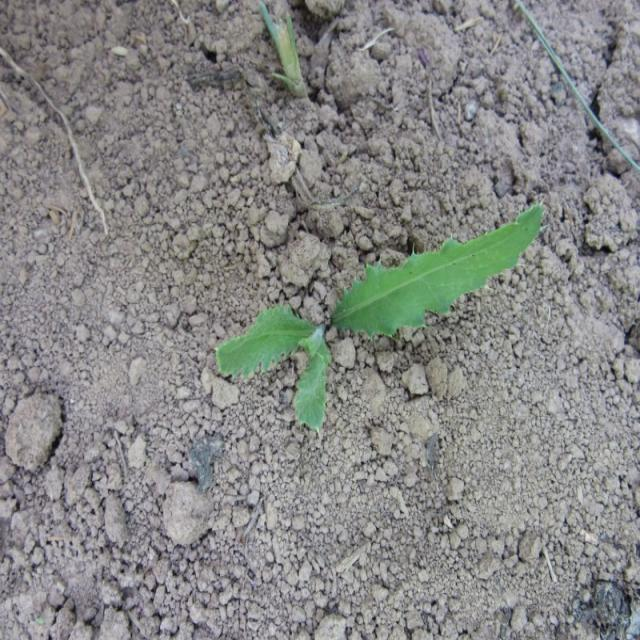field_thistle: (173, 182, 536, 440)
